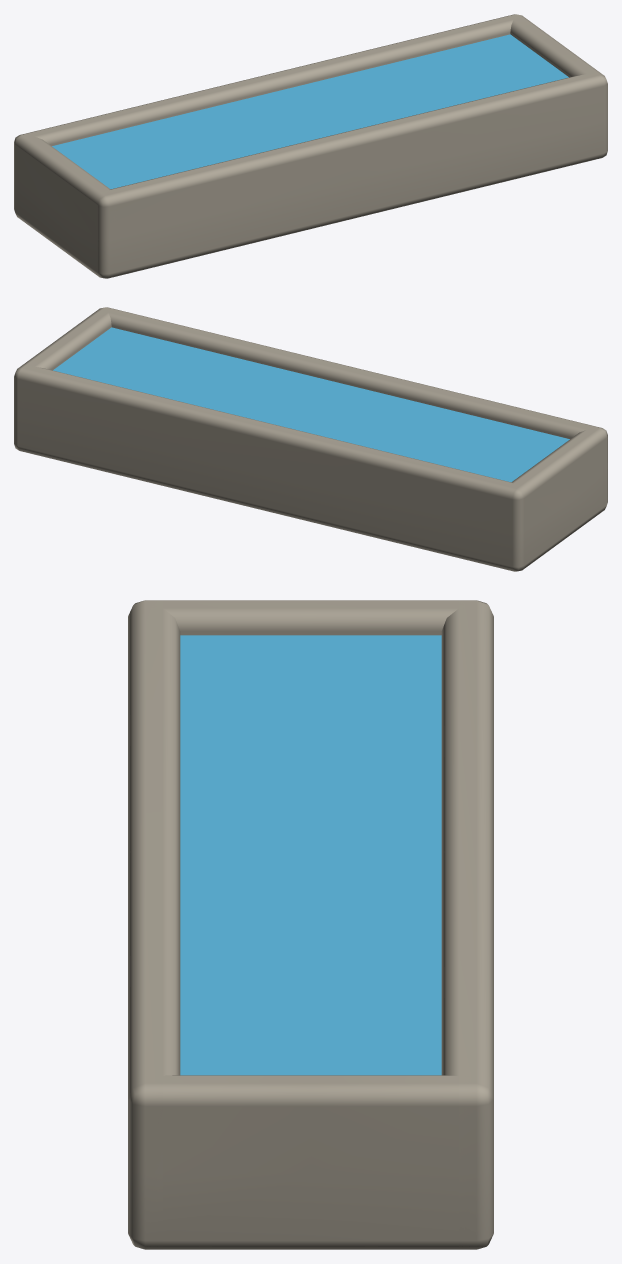
Rendered from furn_touch_pool.glb.
The picture shows the model from 3 angles, top to bottom: view 1: azimuth 30°, elevation 25°; view 2: azimuth 150°, elevation 25°; view 3: azimuth 270°, elevation 25°; orthographic projection. The views are drawn at different scales.
Parts seen in each view (by area): view 1: furn_touch_pool_main, furn_touch_pool_clear; view 2: furn_touch_pool_main, furn_touch_pool_clear; view 3: furn_touch_pool_main, furn_touch_pool_clear.
Boxes of the visible parts, x1,y1,x2,y2 form: furn_touch_pool_main: (14, 14, 607, 278); furn_touch_pool_clear: (52, 34, 568, 189); furn_touch_pool_main: (14, 307, 607, 571); furn_touch_pool_clear: (53, 327, 569, 482); furn_touch_pool_main: (128, 600, 493, 1249); furn_touch_pool_clear: (180, 635, 441, 1075).
Size of the model in its own units: 2.7 by 0.42 by 0.84.
